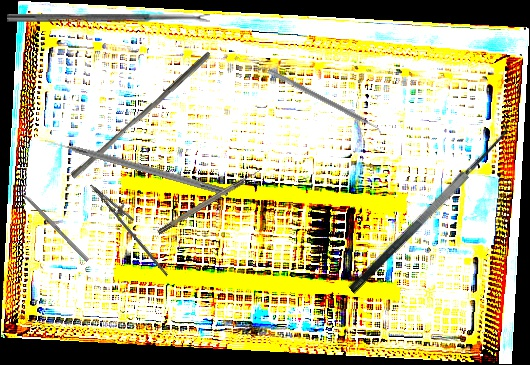Hook Surgical: (44, 134, 230, 197), (156, 168, 262, 235)
Needle Holder: (79, 177, 185, 277)
Pusher: (69, 46, 213, 184), (9, 179, 90, 263)
Spatula Surgical: (334, 115, 518, 295), (264, 68, 386, 137)
Surgical Spoon: (7, 14, 210, 23)
